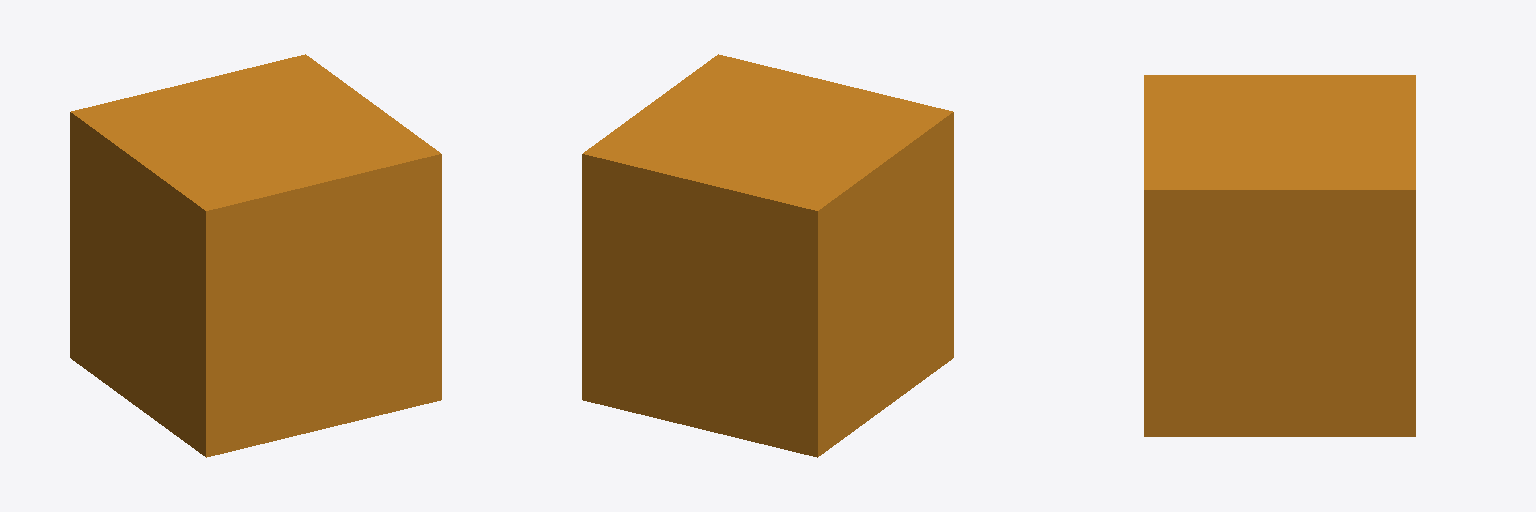
The picture shows the model from 3 angles: view 1: azimuth 30°, elevation 25°; view 2: azimuth 150°, elevation 25°; view 3: azimuth 270°, elevation 25°; orthographic projection.
Parts seen in each view (by area): view 1: object 1; view 2: object 1; view 3: object 1.
Part boxes in pixels (bbox=[...]): object 1: bbox=[70, 54, 441, 457]; object 1: bbox=[582, 54, 953, 457]; object 1: bbox=[1144, 75, 1415, 436].
Bounding box in the file's own units: 0.1 × 0.1 × 0.1.
1 materials, 1 textured.